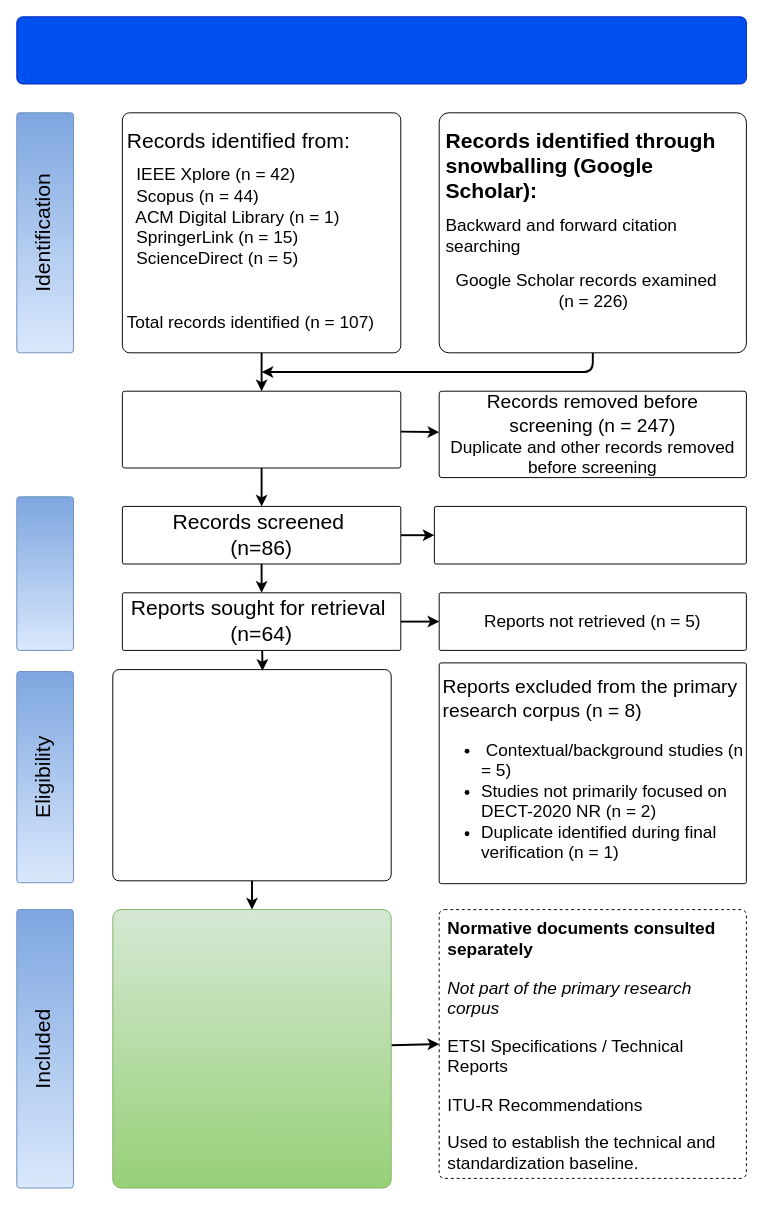
This 763x1209 diagram has some shape labels left out. The box of each missing label's shape, as (x1, y1, x2, y2) in pixels:
Identification of studies via databases and other methods: (16, 16, 746, 84)
Records excluded (n = 22): (433, 505, 746, 564)
Reports assessed for eligibility (full-text) (n = 59): (112, 669, 391, 881)
Screening: (16, 496, 73, 650)
Studies included in quantitative synthesis (Primary research corpus) (n = 51): (112, 909, 391, 1188)
Total records identified from all sources (n=333): (121, 390, 401, 468)
